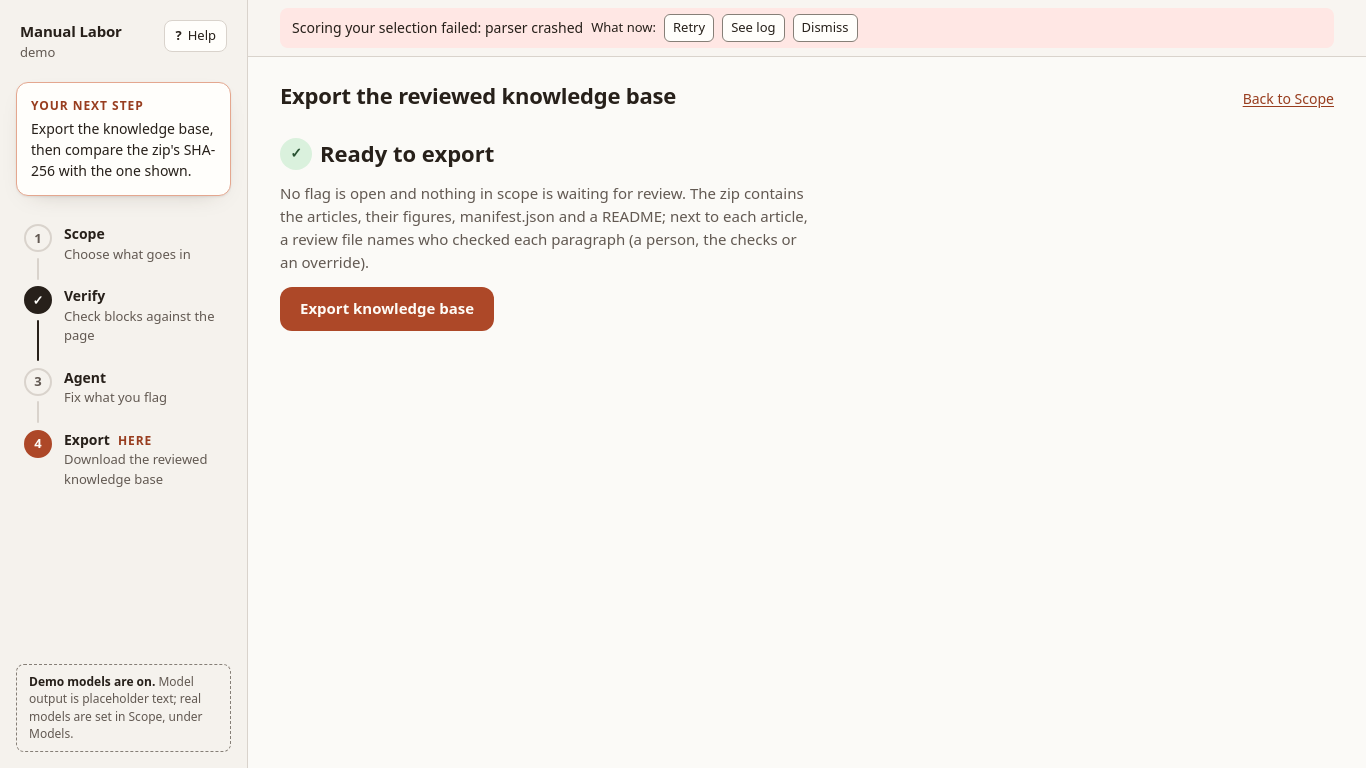
Scenario: JobsBar: what now after a failed job (design 12 section 2.6) › Retry re-posts the same plan; See log shows the job's log
Click the button "See log" at (753,28), box [722,14,784,42]
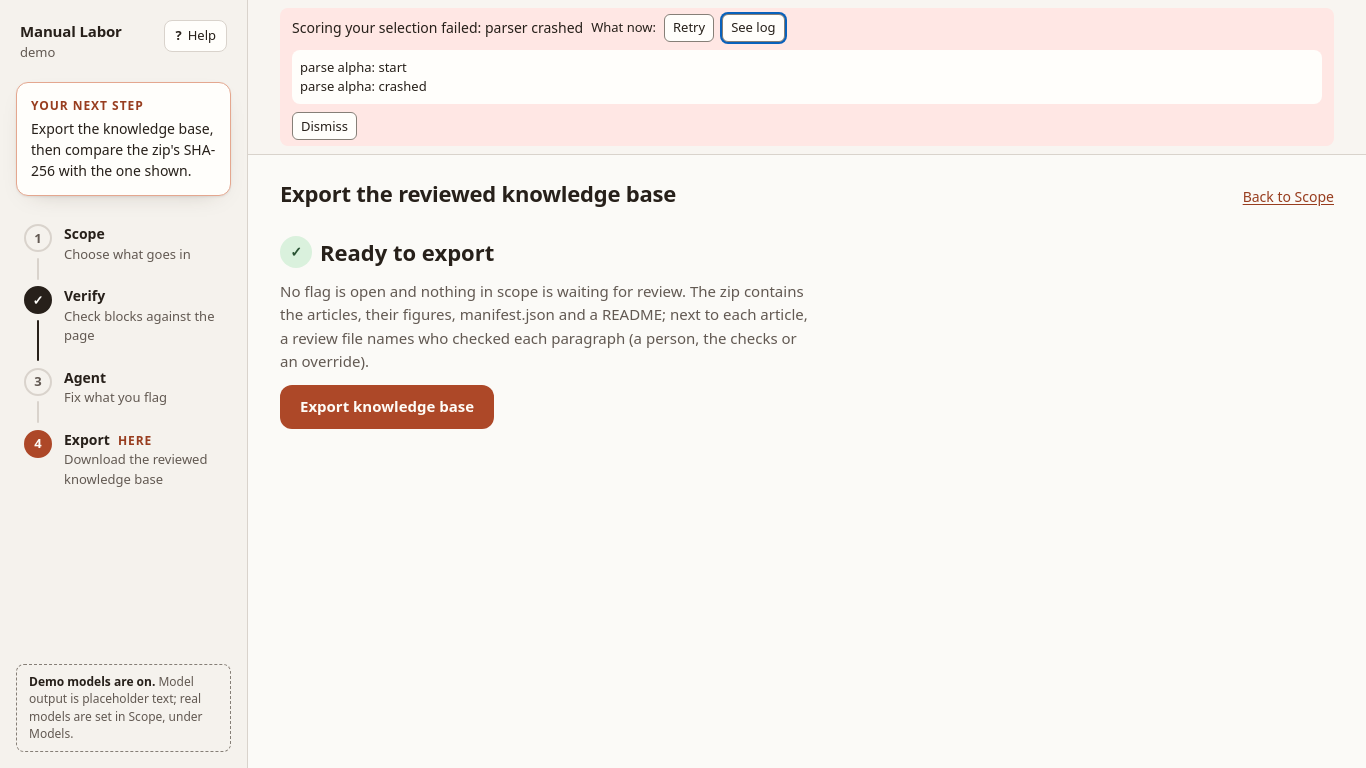
Now the list with test id "job-log" shows "parse alpha: crashed", box [300,77,427,95]
Click the button "Retry" at (689,28), box [664,14,714,42]
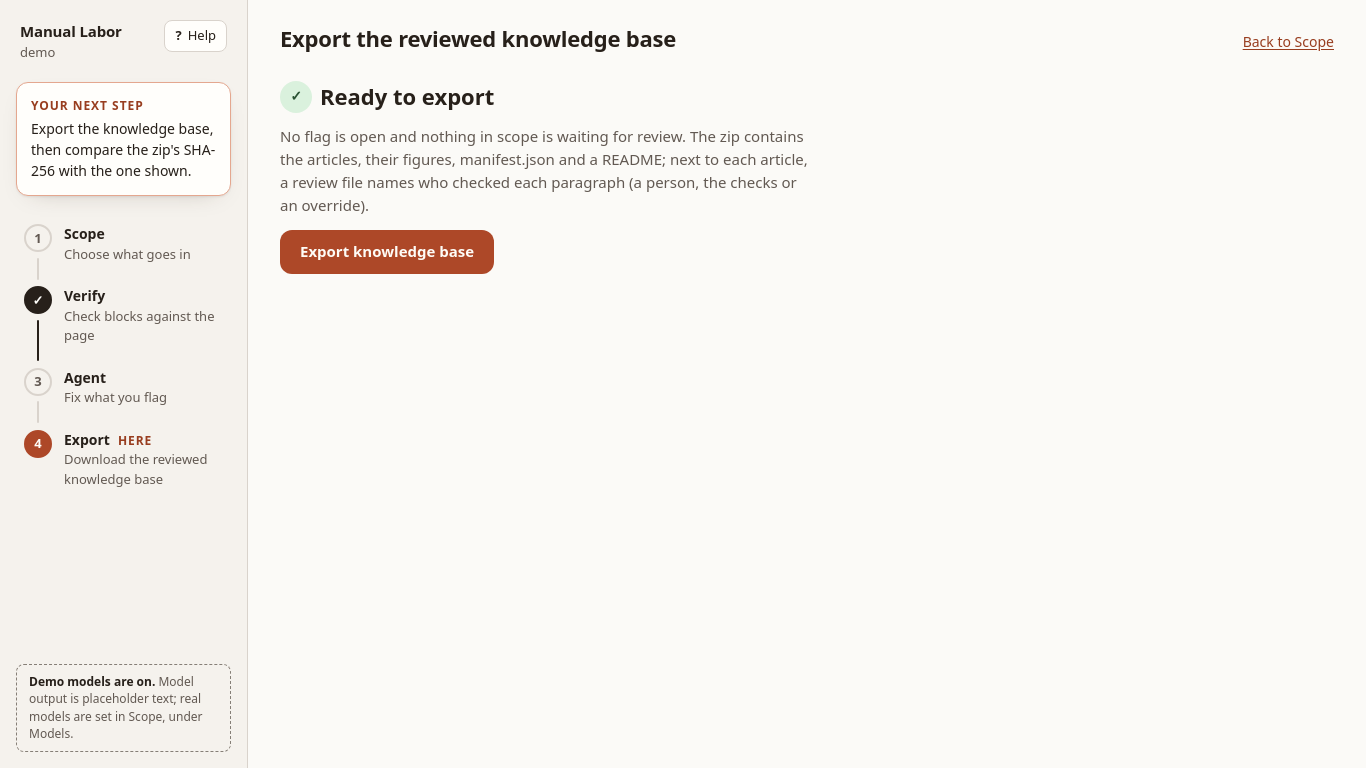
Now the message with test id "job-failed" is gone
